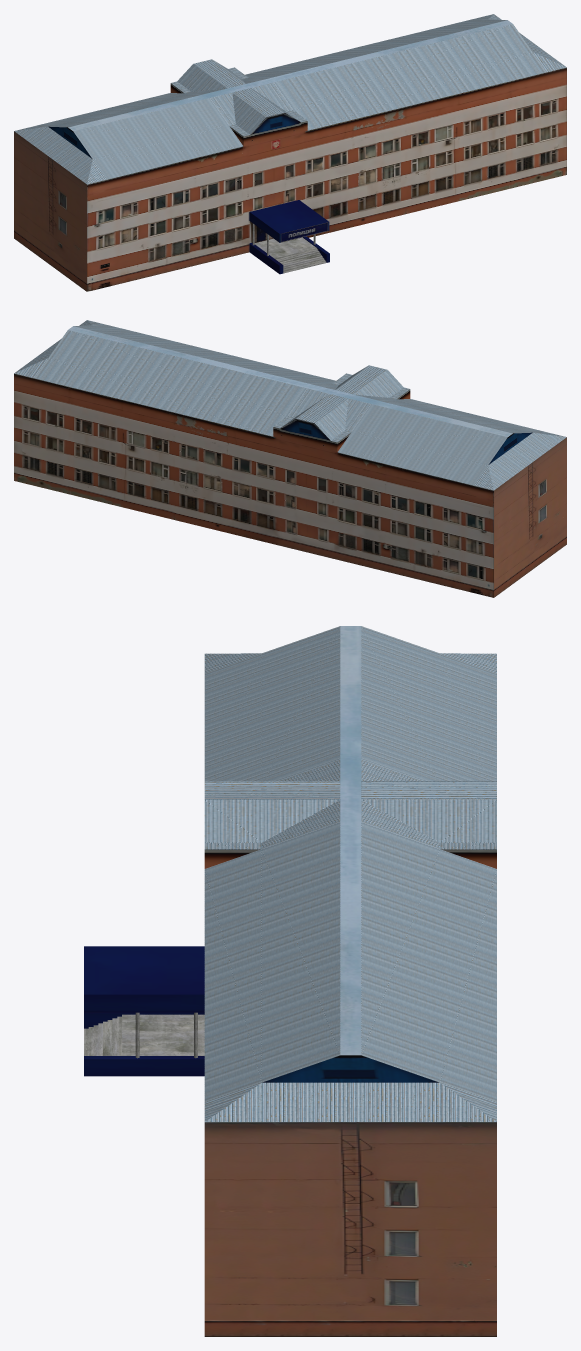
The model's file is polres.glb.
3 views of the same model, one above another, from view 1: azimuth 30°, elevation 25°; view 2: azimuth 150°, elevation 25°; view 3: azimuth 270°, elevation 25° (orthographic). The views are drawn at different scales.
Visible parts, largest first — view 1: body, cover, cover2, stairs, side; view 2: body, cover; view 3: cover, body, cover2, stairs, side.
Part boxes in pixels (x1,y1,x2,y2): body: (14,67,566,291); cover: (14,14,566,184); cover2: (249,200,329,242); stairs: (254,237,326,273); side: (249,236,329,274); body: (14,373,566,597); cover: (14,320,566,490); cover: (204,626,496,1121); body: (204,1122,496,1336); cover2: (84,946,204,1012); stairs: (84,1014,204,1055); side: (84,1012,204,1076).
Bounding box in the file's own units: 55 × 14.34 × 20.49.
Materials: 3 (3 with a texture image).
